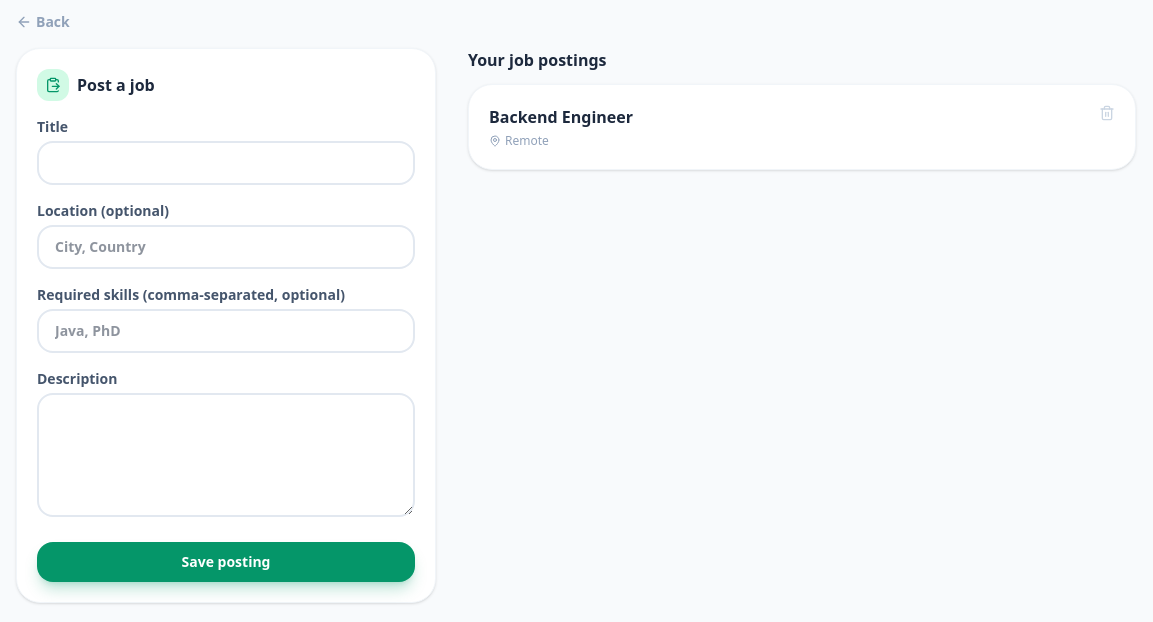
Test case: Postings › deletes a posting
Check: the text "Backend Engineer" is shown, box [489, 105, 633, 129]
Click the button named "remove backend engineer": (1107, 113) [1099, 105, 1115, 121]
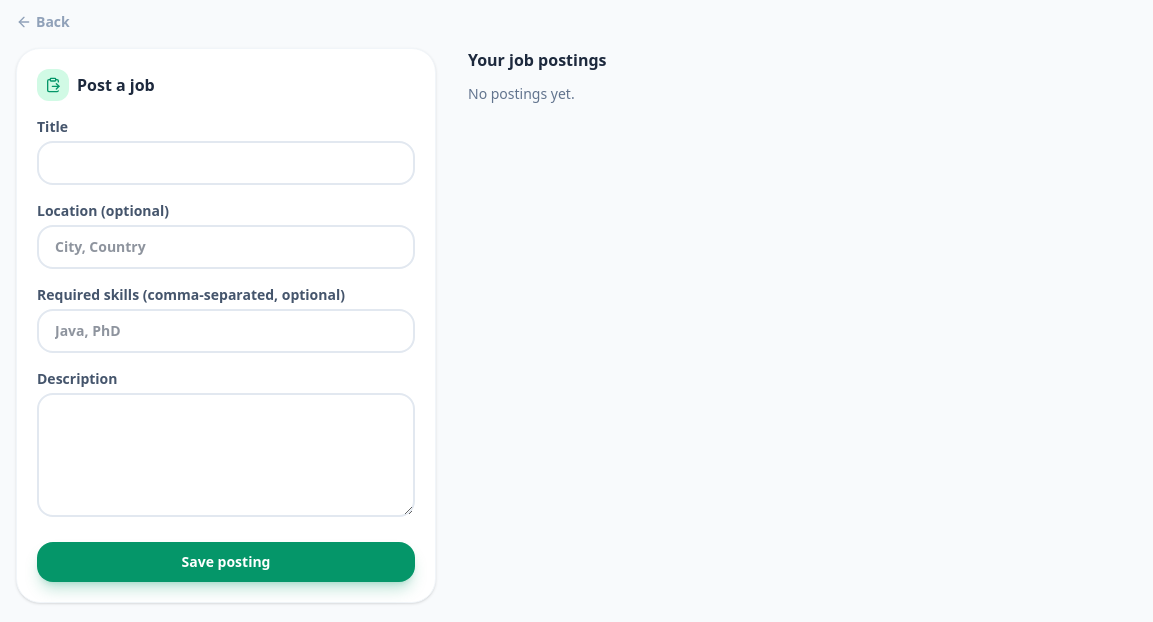
Check: the text "Backend Engineer" is gone
